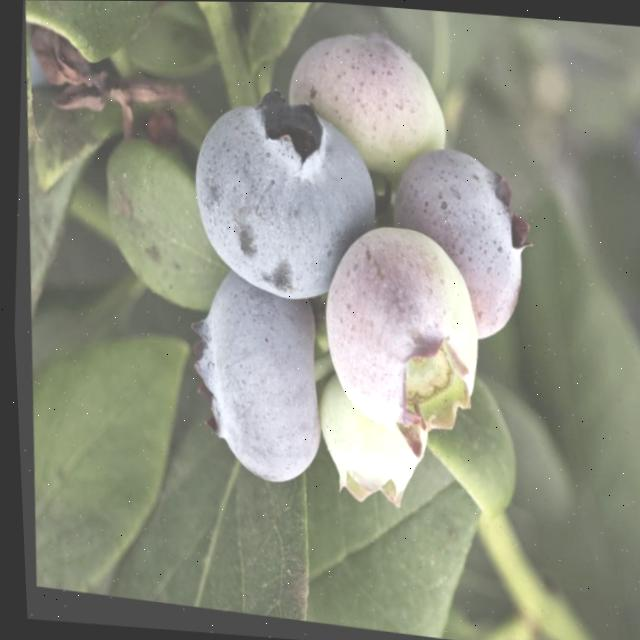RipeBlueBerry: (175, 92, 387, 313), (173, 275, 327, 496)
Semi-RipeBlueBerry: (302, 218, 489, 451), (375, 141, 536, 347)
UnripeBlueBerry: (272, 30, 456, 186), (304, 383, 427, 507)
